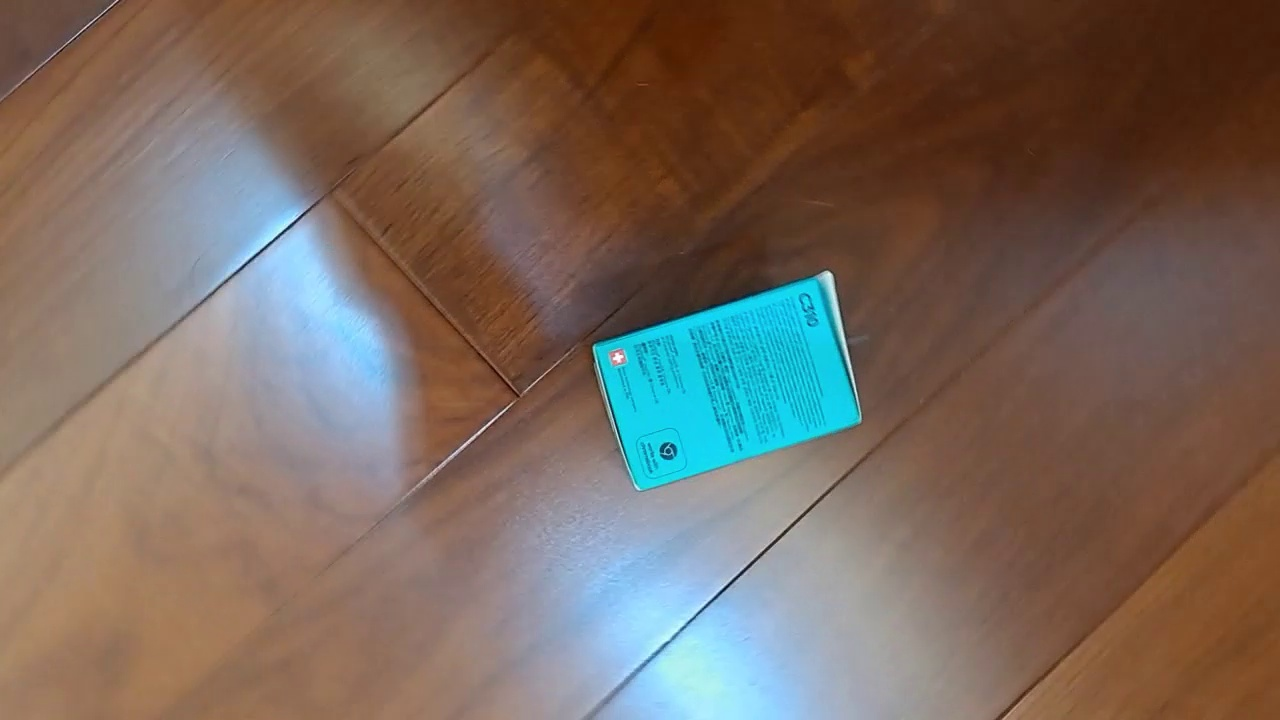webcam: (590, 268, 864, 492)
